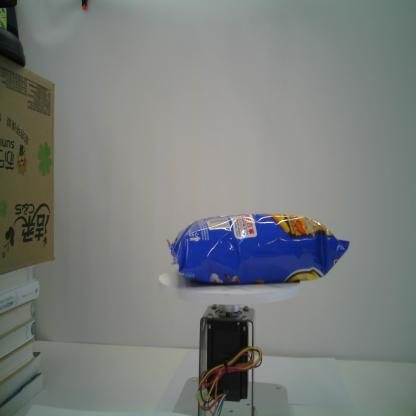Puffed Food: (166, 212, 350, 284)
